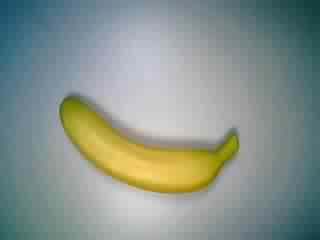banana: (55, 93, 244, 202)
